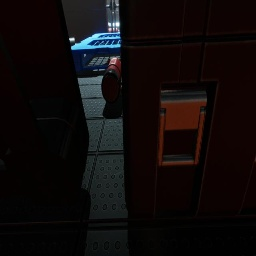FireExtinguisher ]: (101, 58, 122, 104), (109, 28, 119, 33)
